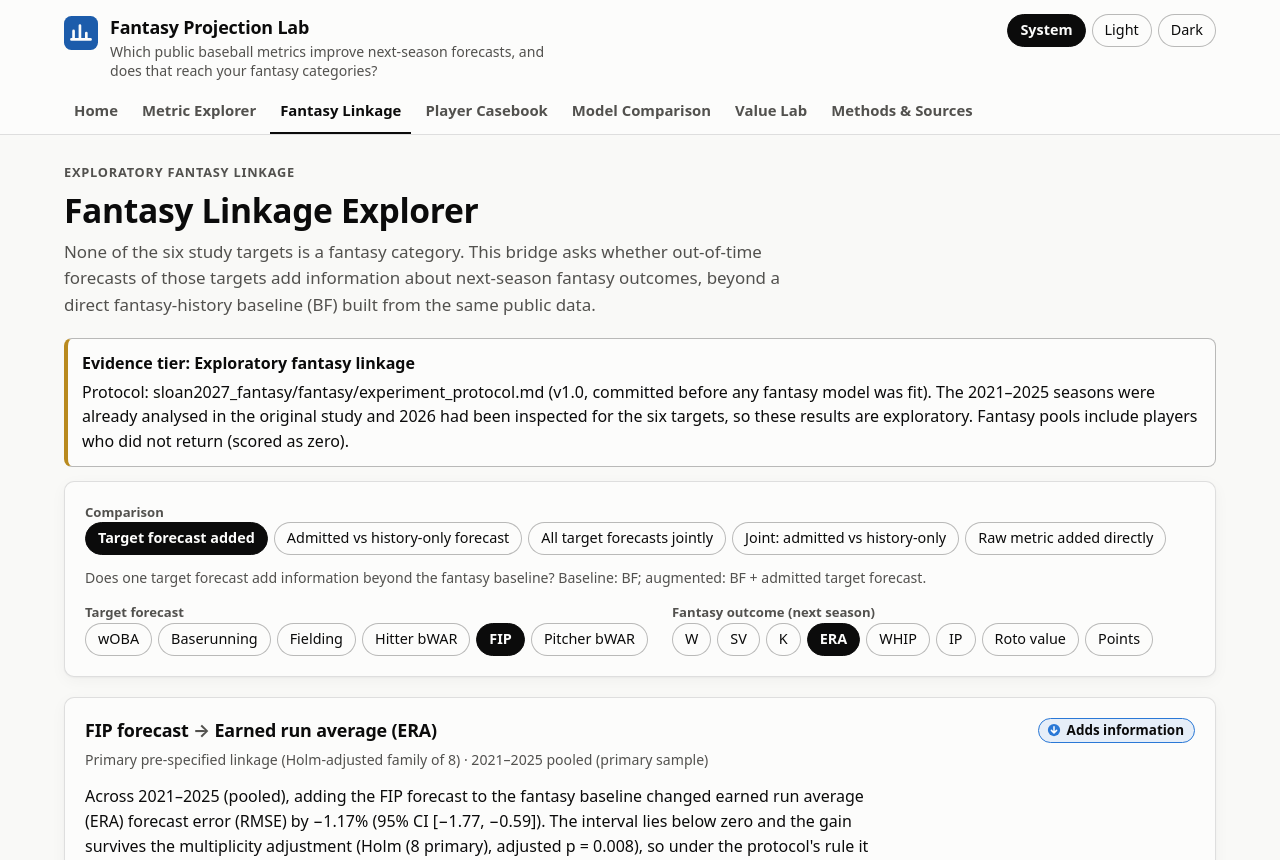
Scenario: Fantasy Linkage Explorer › FIP forecast → ERA (primary linkage) adds information; wOBA → HR shows a null as prominently
expect the heading "FIP forecast → Earned run average (ERA)" is shown: met, box [85, 719, 437, 742]
expect the text "Primary pre-specified linkage" is shown: met, box [85, 750, 460, 769]
Step 1. Click the radio button labelled "wOBA" → (119, 639), box [85, 623, 152, 656]
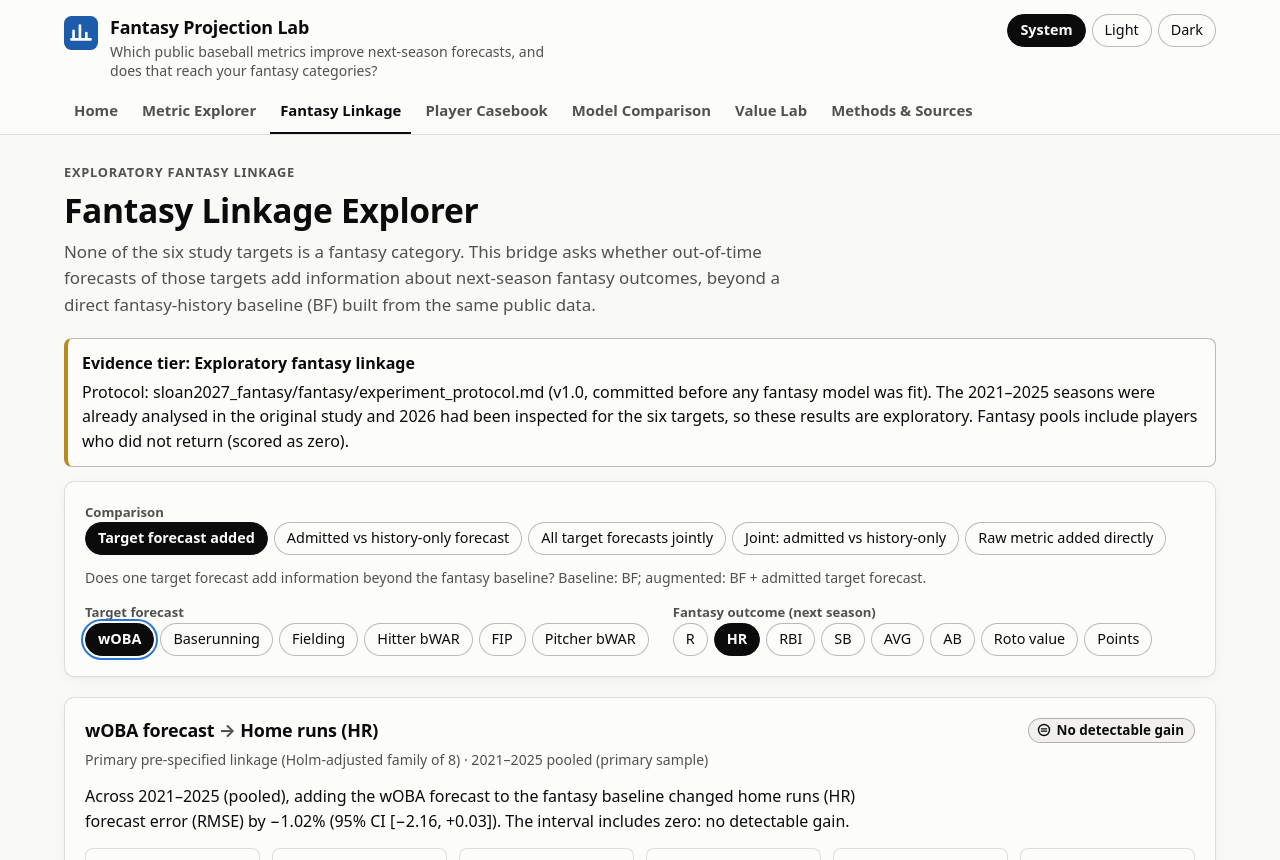
Step 2. Click the radio button labelled "HR" → (737, 639), box [714, 623, 760, 656]
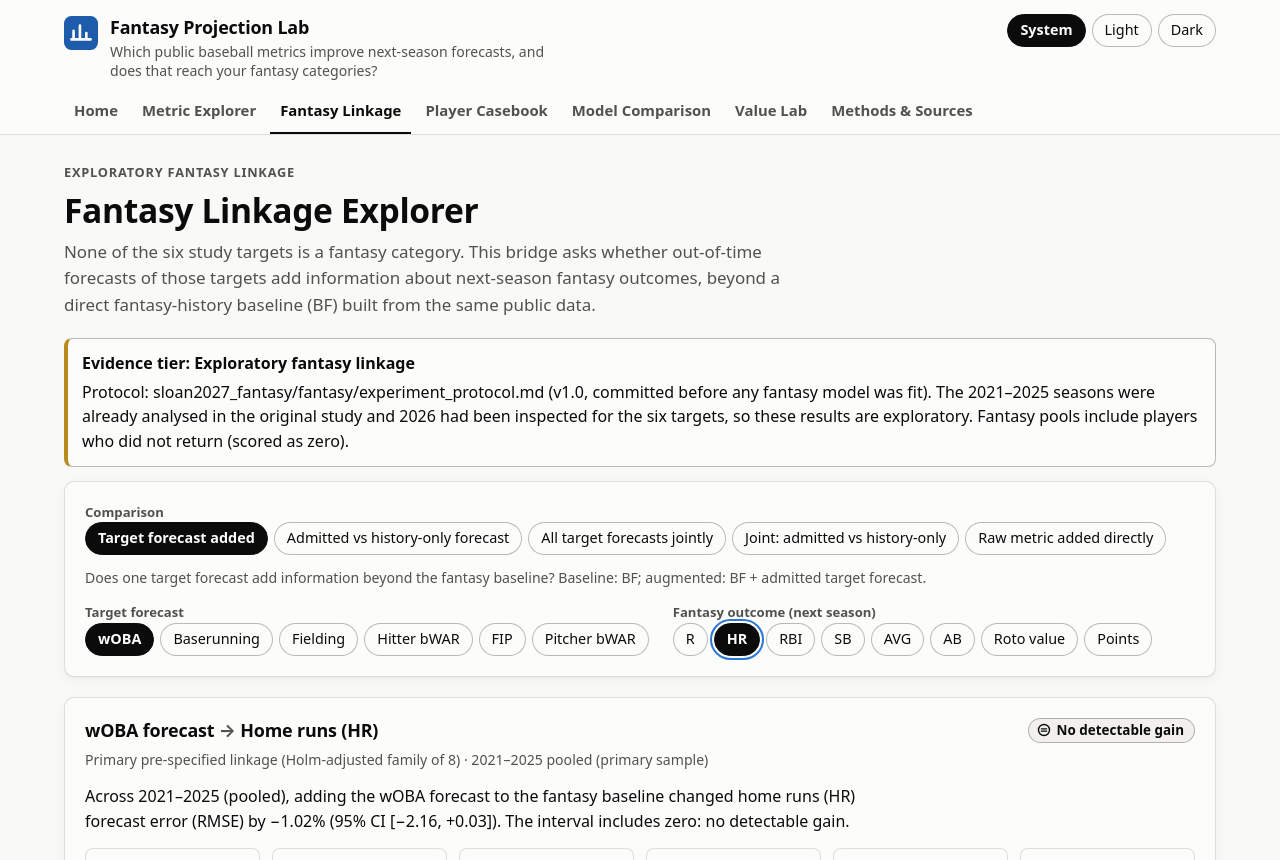
expect the element showing "No detectable gain" has attribute data-verdict="no detectable gain": met, box [1028, 718, 1195, 743]
